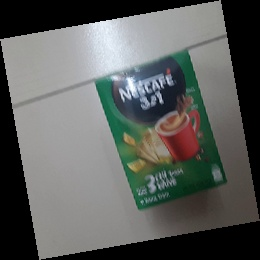Nes Rang: (93, 47, 227, 212)
